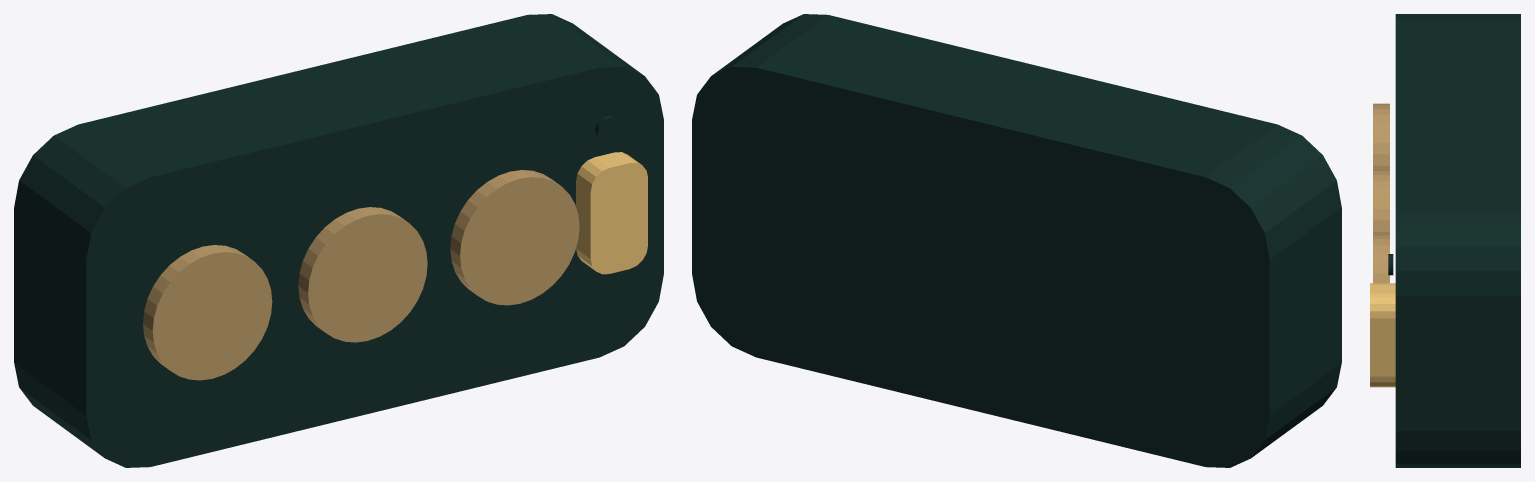
File: powerstrip.glb
3 renders of one model, left to right at view 1: azimuth 30°, elevation 25°; view 2: azimuth 150°, elevation 25°; view 3: azimuth 270°, elevation 25°, orthographic. The views are drawn at different scales.
Visible parts, largest first — view 1: case, socket-0.52, socket-0.06, socket0.39, switch; view 2: case; view 3: case, switch, socket-0.52, socket-0.06, socket0.39.
Part boxes in pixels (<box>): case: <box>14,14,663,467</box>; socket-0.52: <box>143,245,272,380</box>; socket-0.06: <box>298,207,427,342</box>; socket0.39: <box>450,170,579,305</box>; switch: <box>576,152,647,274</box>; case: <box>692,14,1341,467</box>; case: <box>1395,14,1520,467</box>; switch: <box>1370,283,1395,387</box>; socket-0.52: <box>1373,103,1389,169</box>; socket-0.06: <box>1373,169,1389,233</box>; socket0.39: <box>1373,234,1389,283</box>.
Size of the model in its own units: 1.71 by 0.82 by 0.4455.
